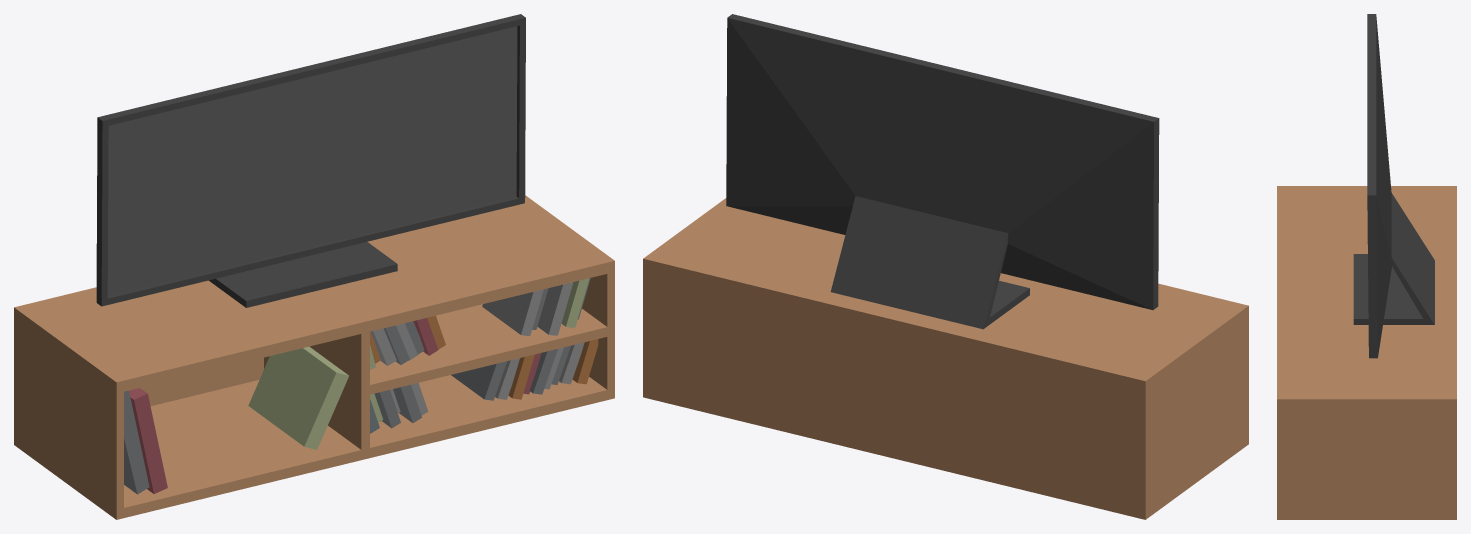
3 views of the same model, side by side, from view 1: azimuth 30°, elevation 25°; view 2: azimuth 150°, elevation 25°; view 3: azimuth 270°, elevation 25° (orthographic). The views are drawn at different scales.
Parts seen in each view (by area): view 1: tv; view 2: tv; view 3: tv.
Boxes of the visible parts, x1,y1,x2,y2 form: tv: (14,14,614,519); tv: (643,14,1248,519); tv: (1277,14,1456,519).
Bounding box in the file's own units: 130 × 87.78 × 46.32.
1 material, 1 textured.
